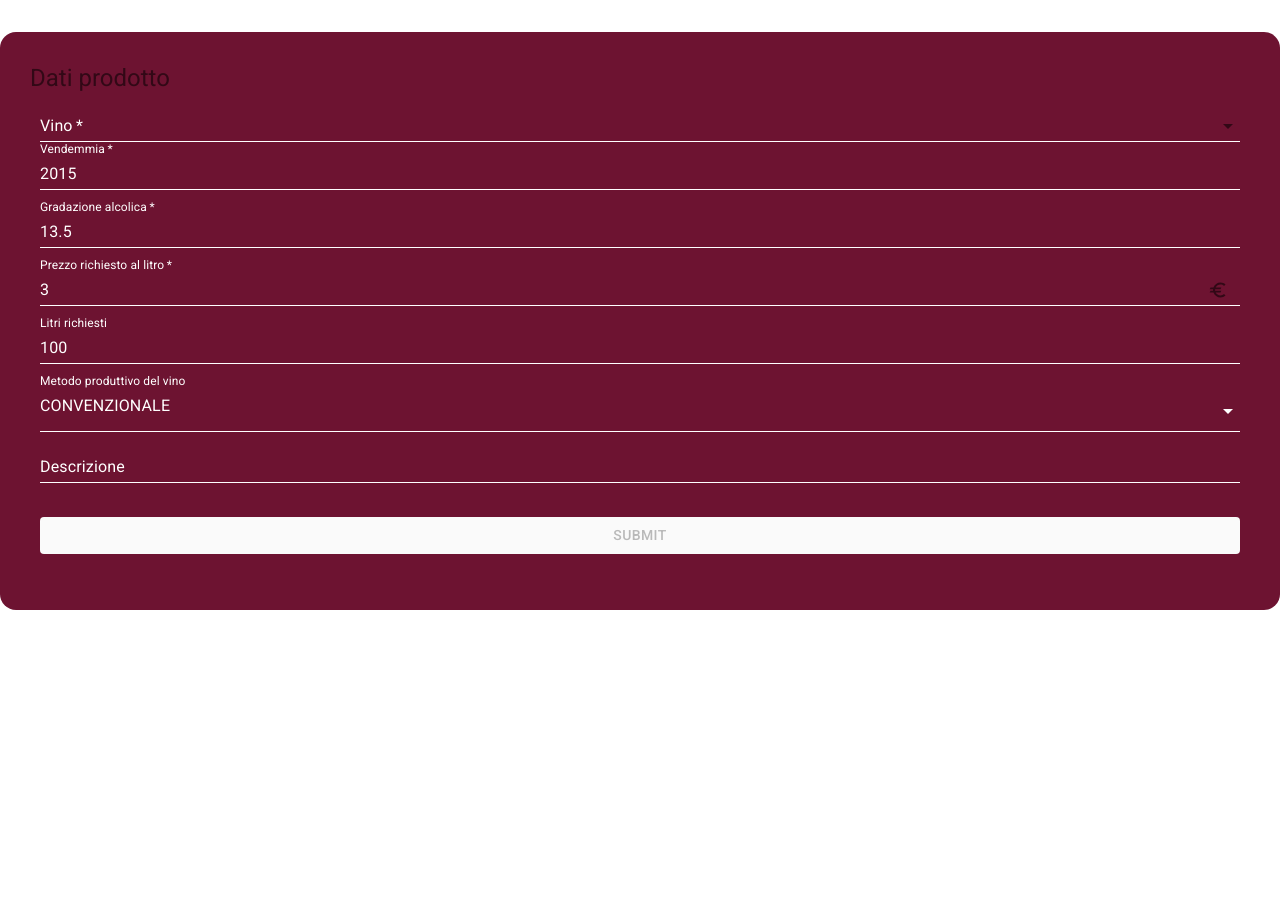
Wine form mutation › should validate form fields and not submit if fields empty
Clear the number field named "abv". click: (624, 232)
box: [40,216,1208,248]
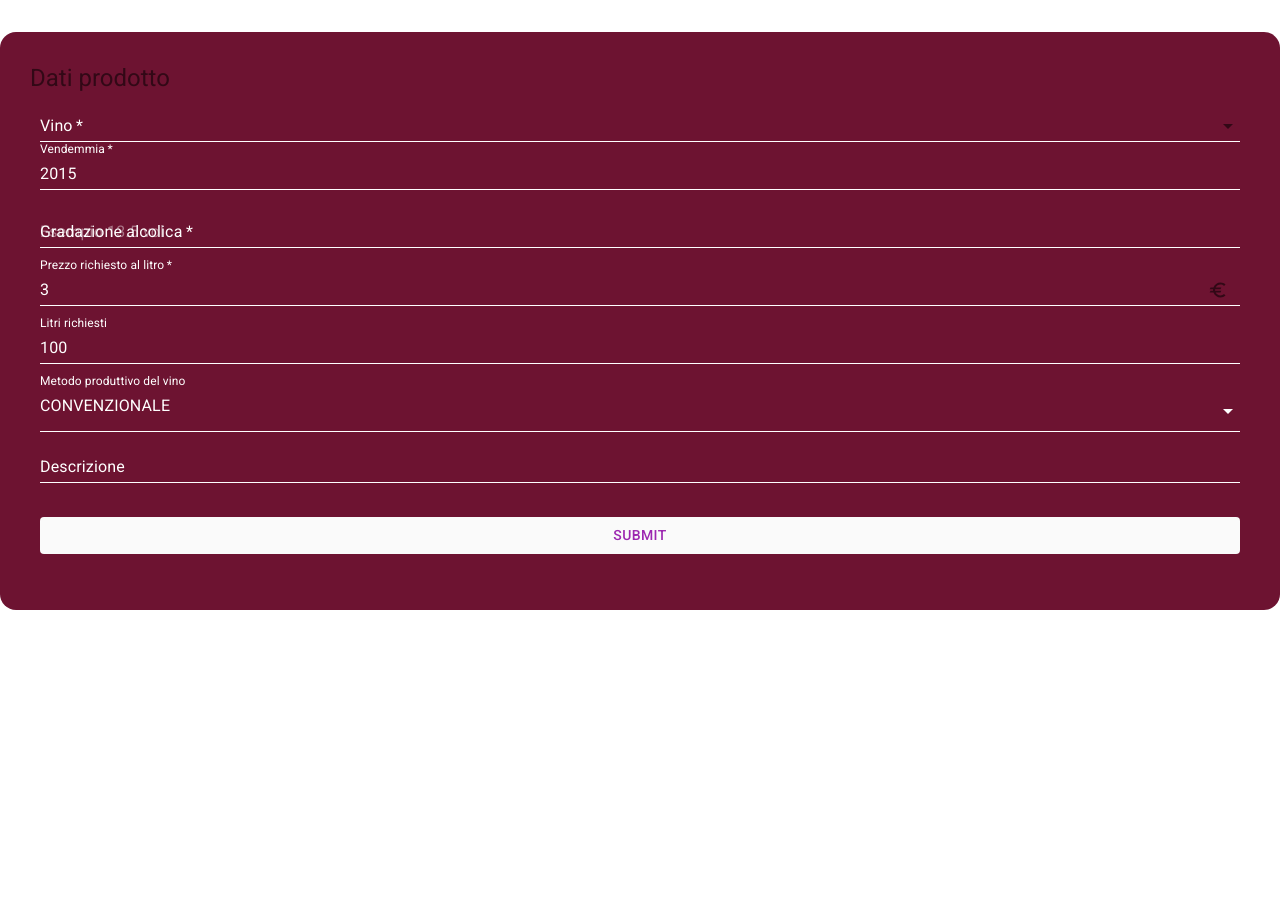
Clear the number field named "harvest". click: (640, 174)
box: [40,158,1240,190]
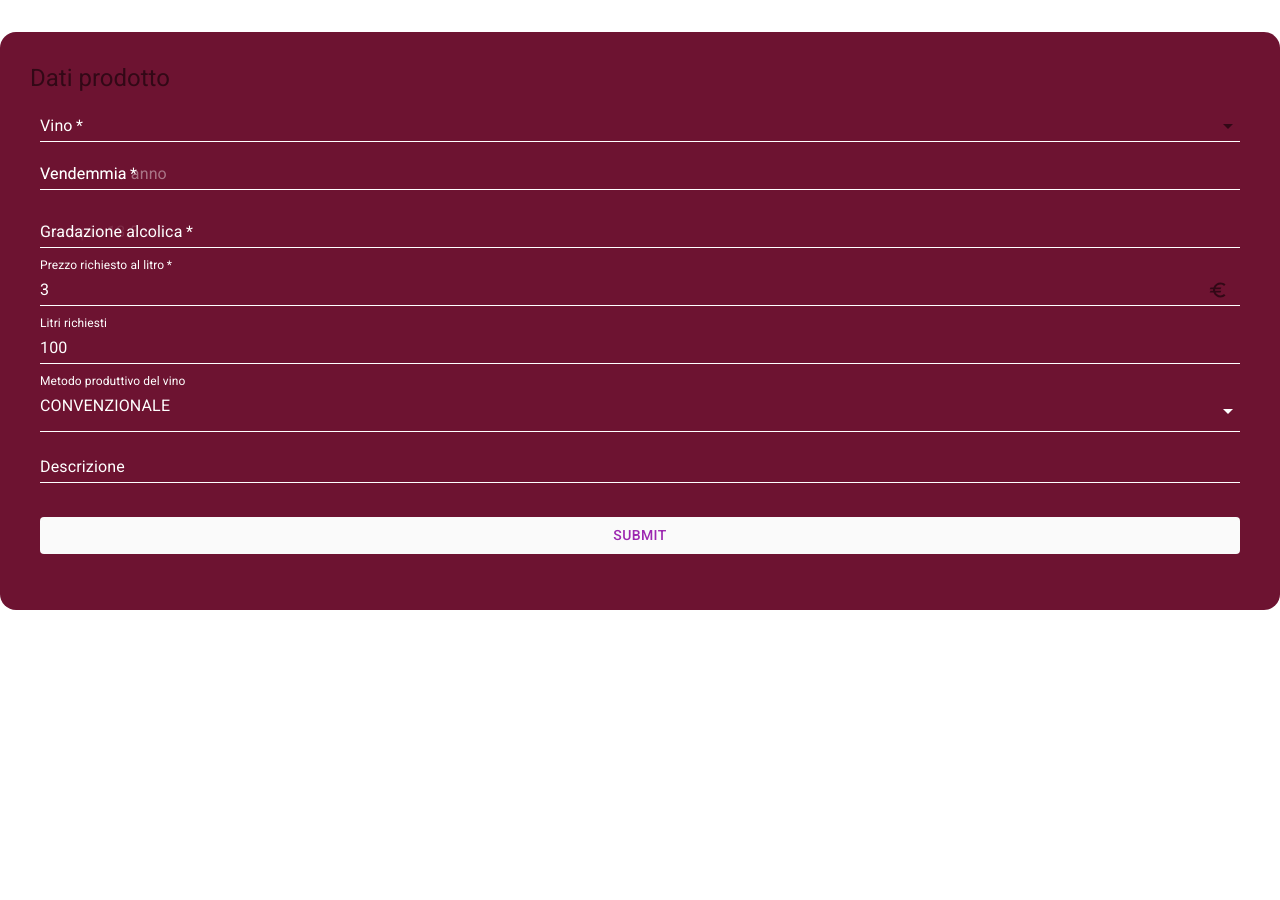
Clear the number field named "price". click: (614, 290)
box: [40,274,1188,306]
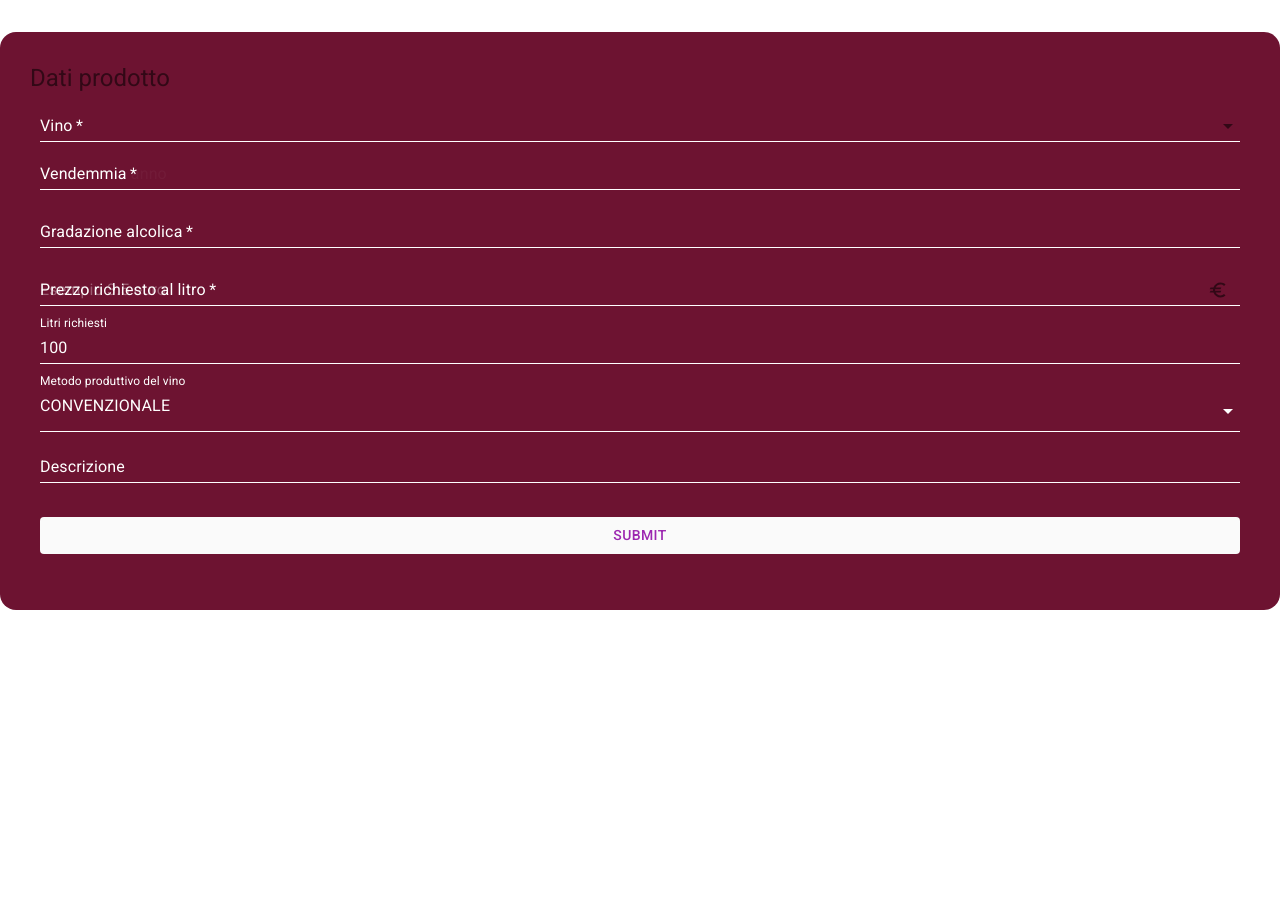
Clear the number field named "liters". click: (640, 348)
box: [40,332,1240,364]
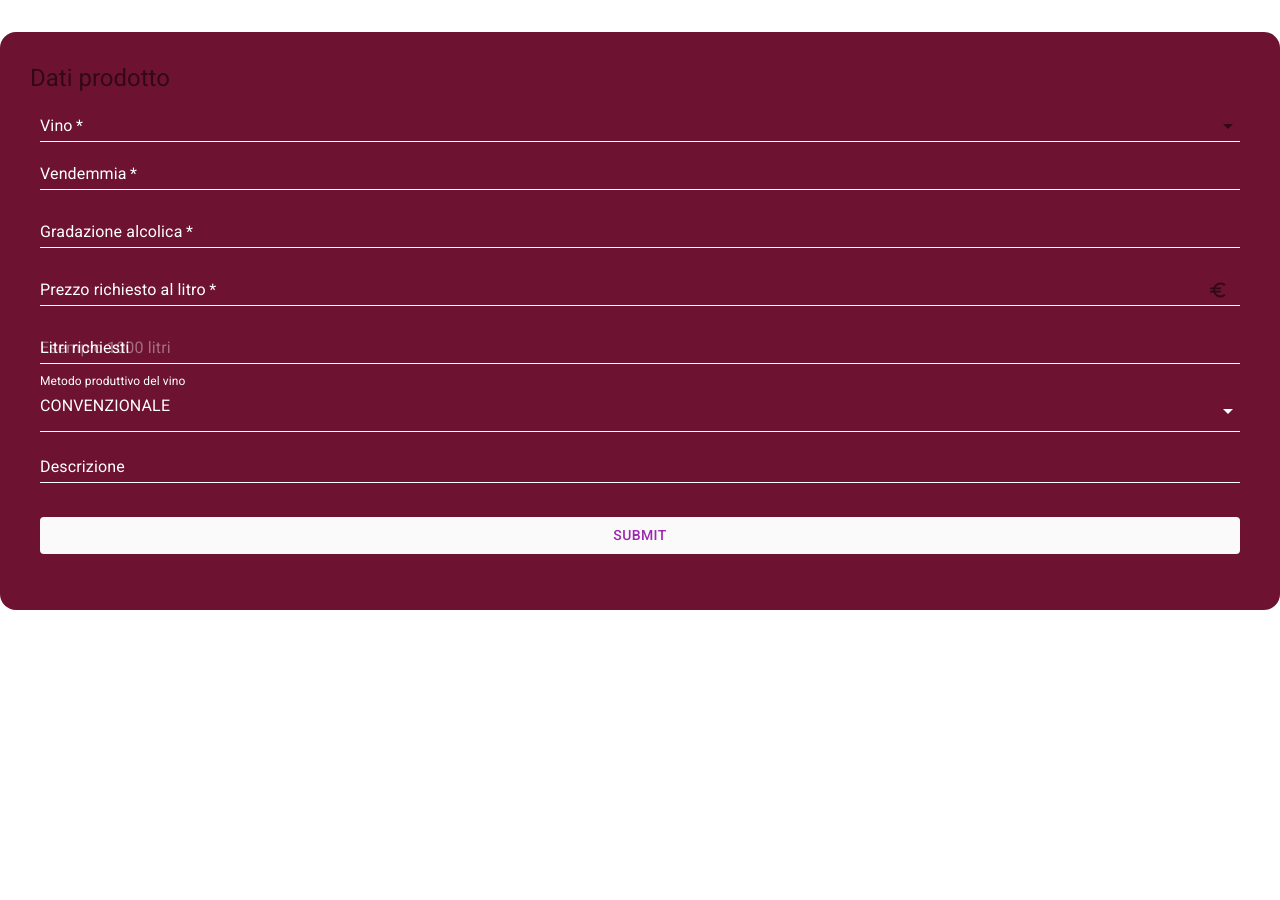
Submit the form from the button "Submit", box [40,517,1240,554]
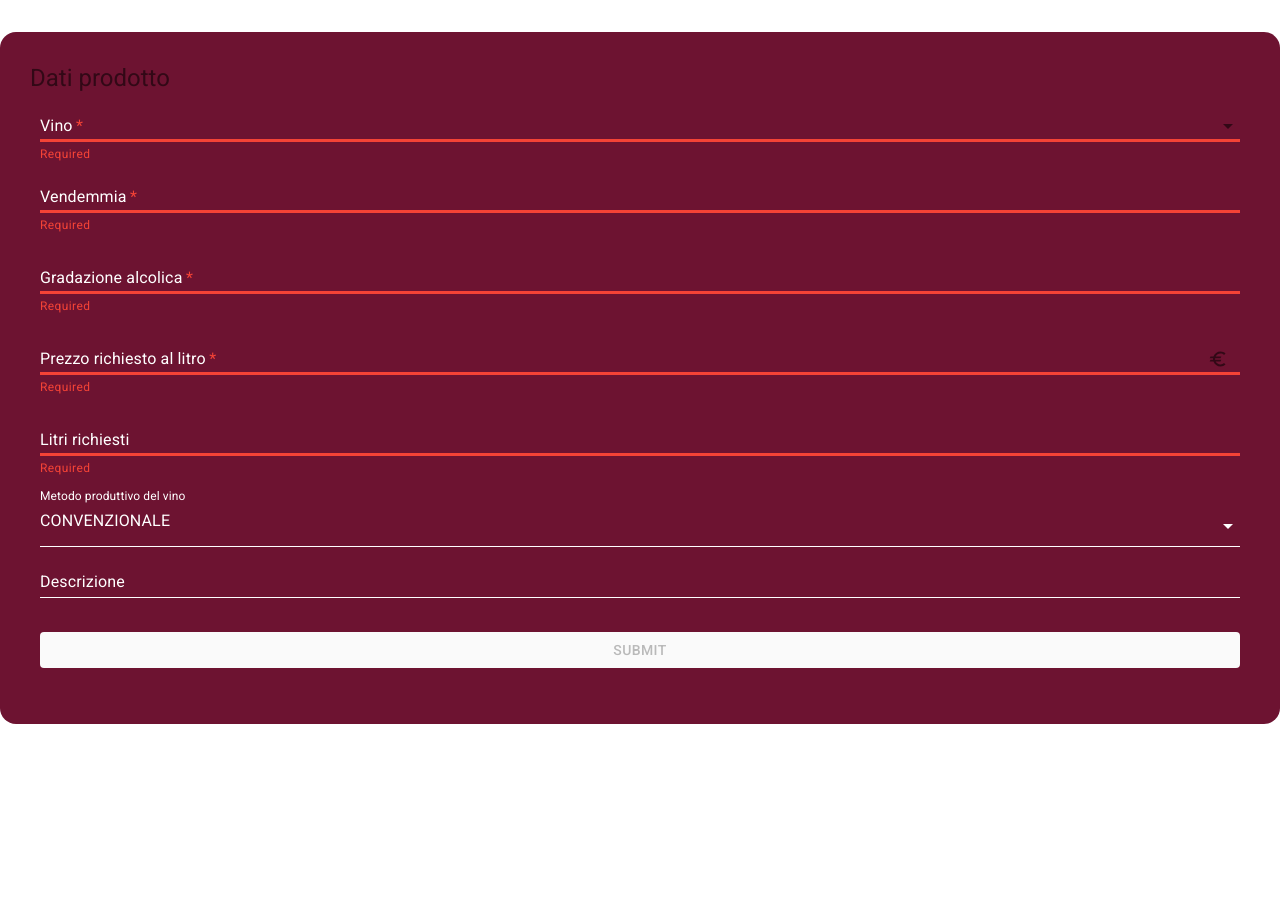
Expected: the text "Required" is shown 5 times, [40,147,90,161]; [40,218,90,232]; [40,299,90,313]; [40,380,90,394]; [40,461,90,475]
